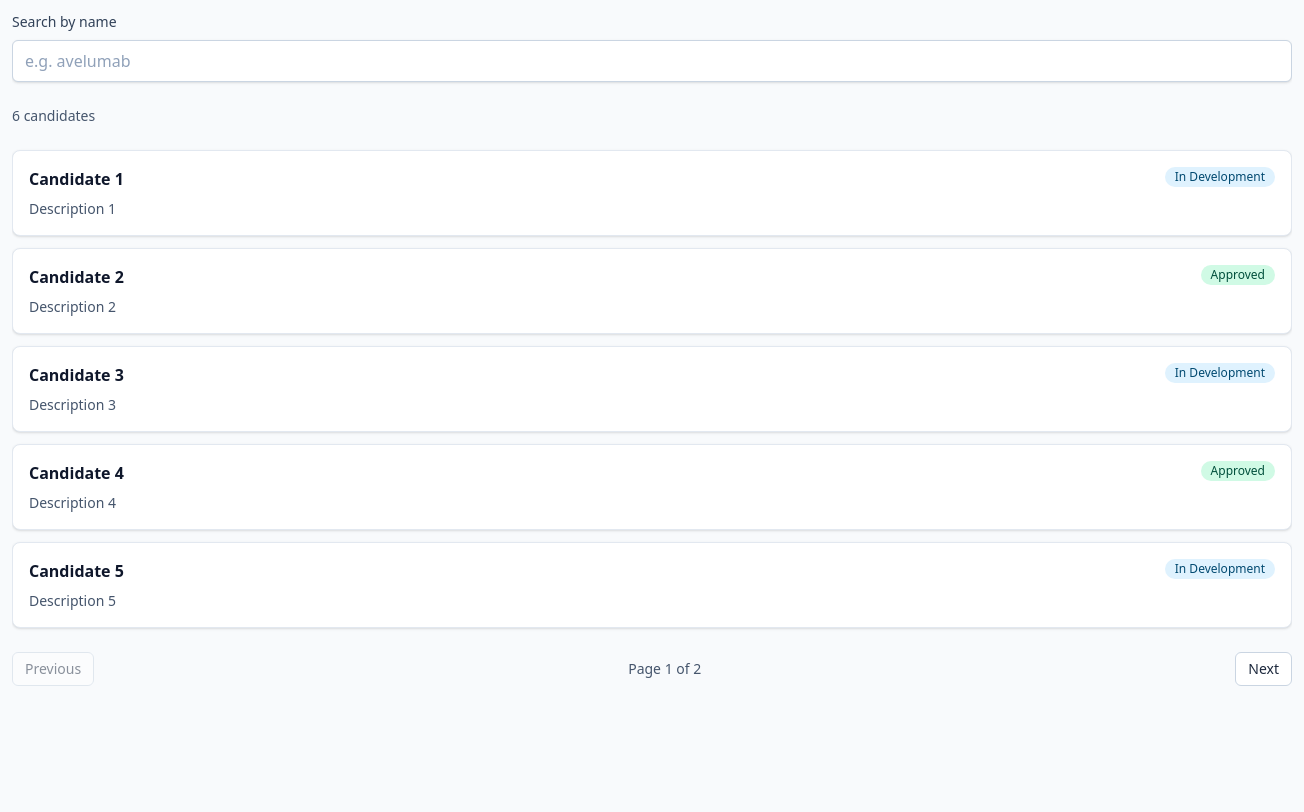
Test: CandidateExplorer › filters by name and shows an empty message when nothing matches
Type "zzz" into the search field labelled "Search by name". click: (652, 61)
box: [12, 40, 1292, 82]
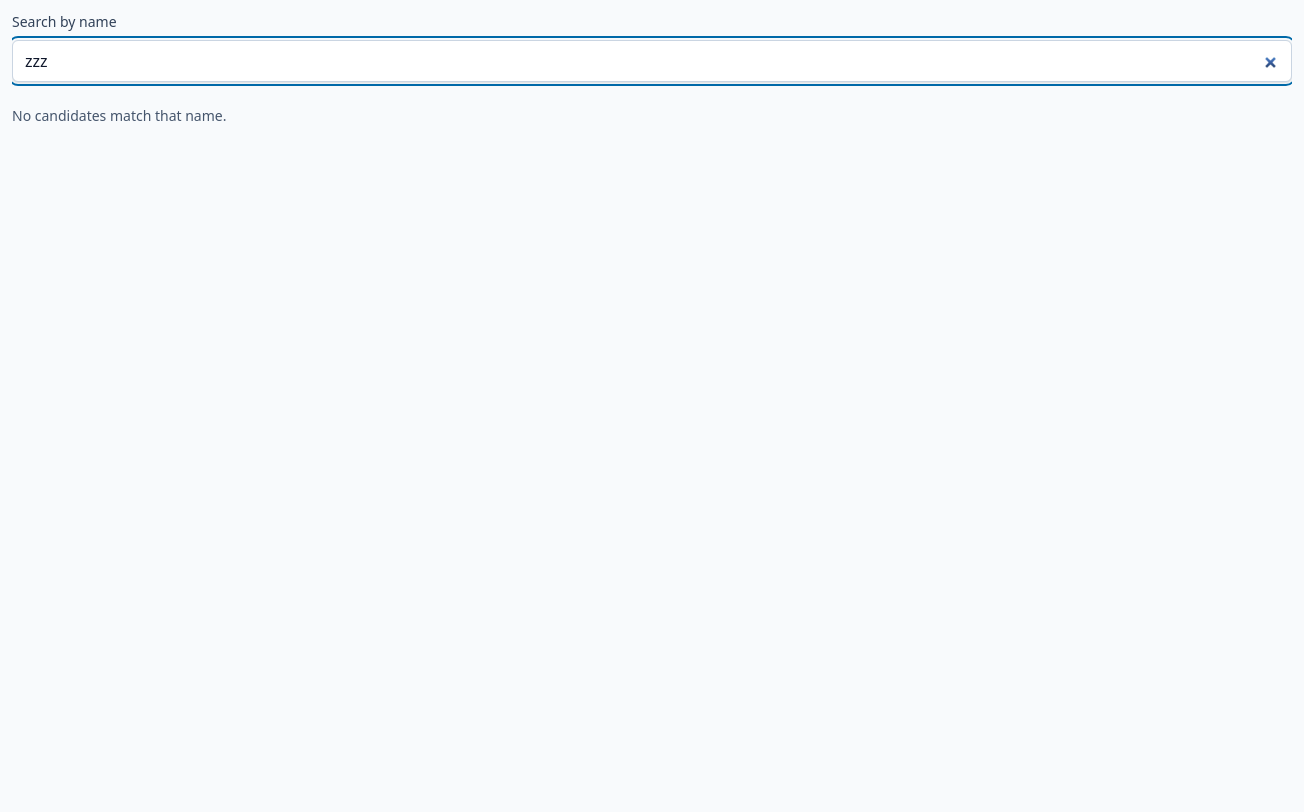
Result: the text "No candidates match that name." is shown at [12, 106, 226, 125]
Result: the link "Candidate 1 In Development Description 1" is gone
